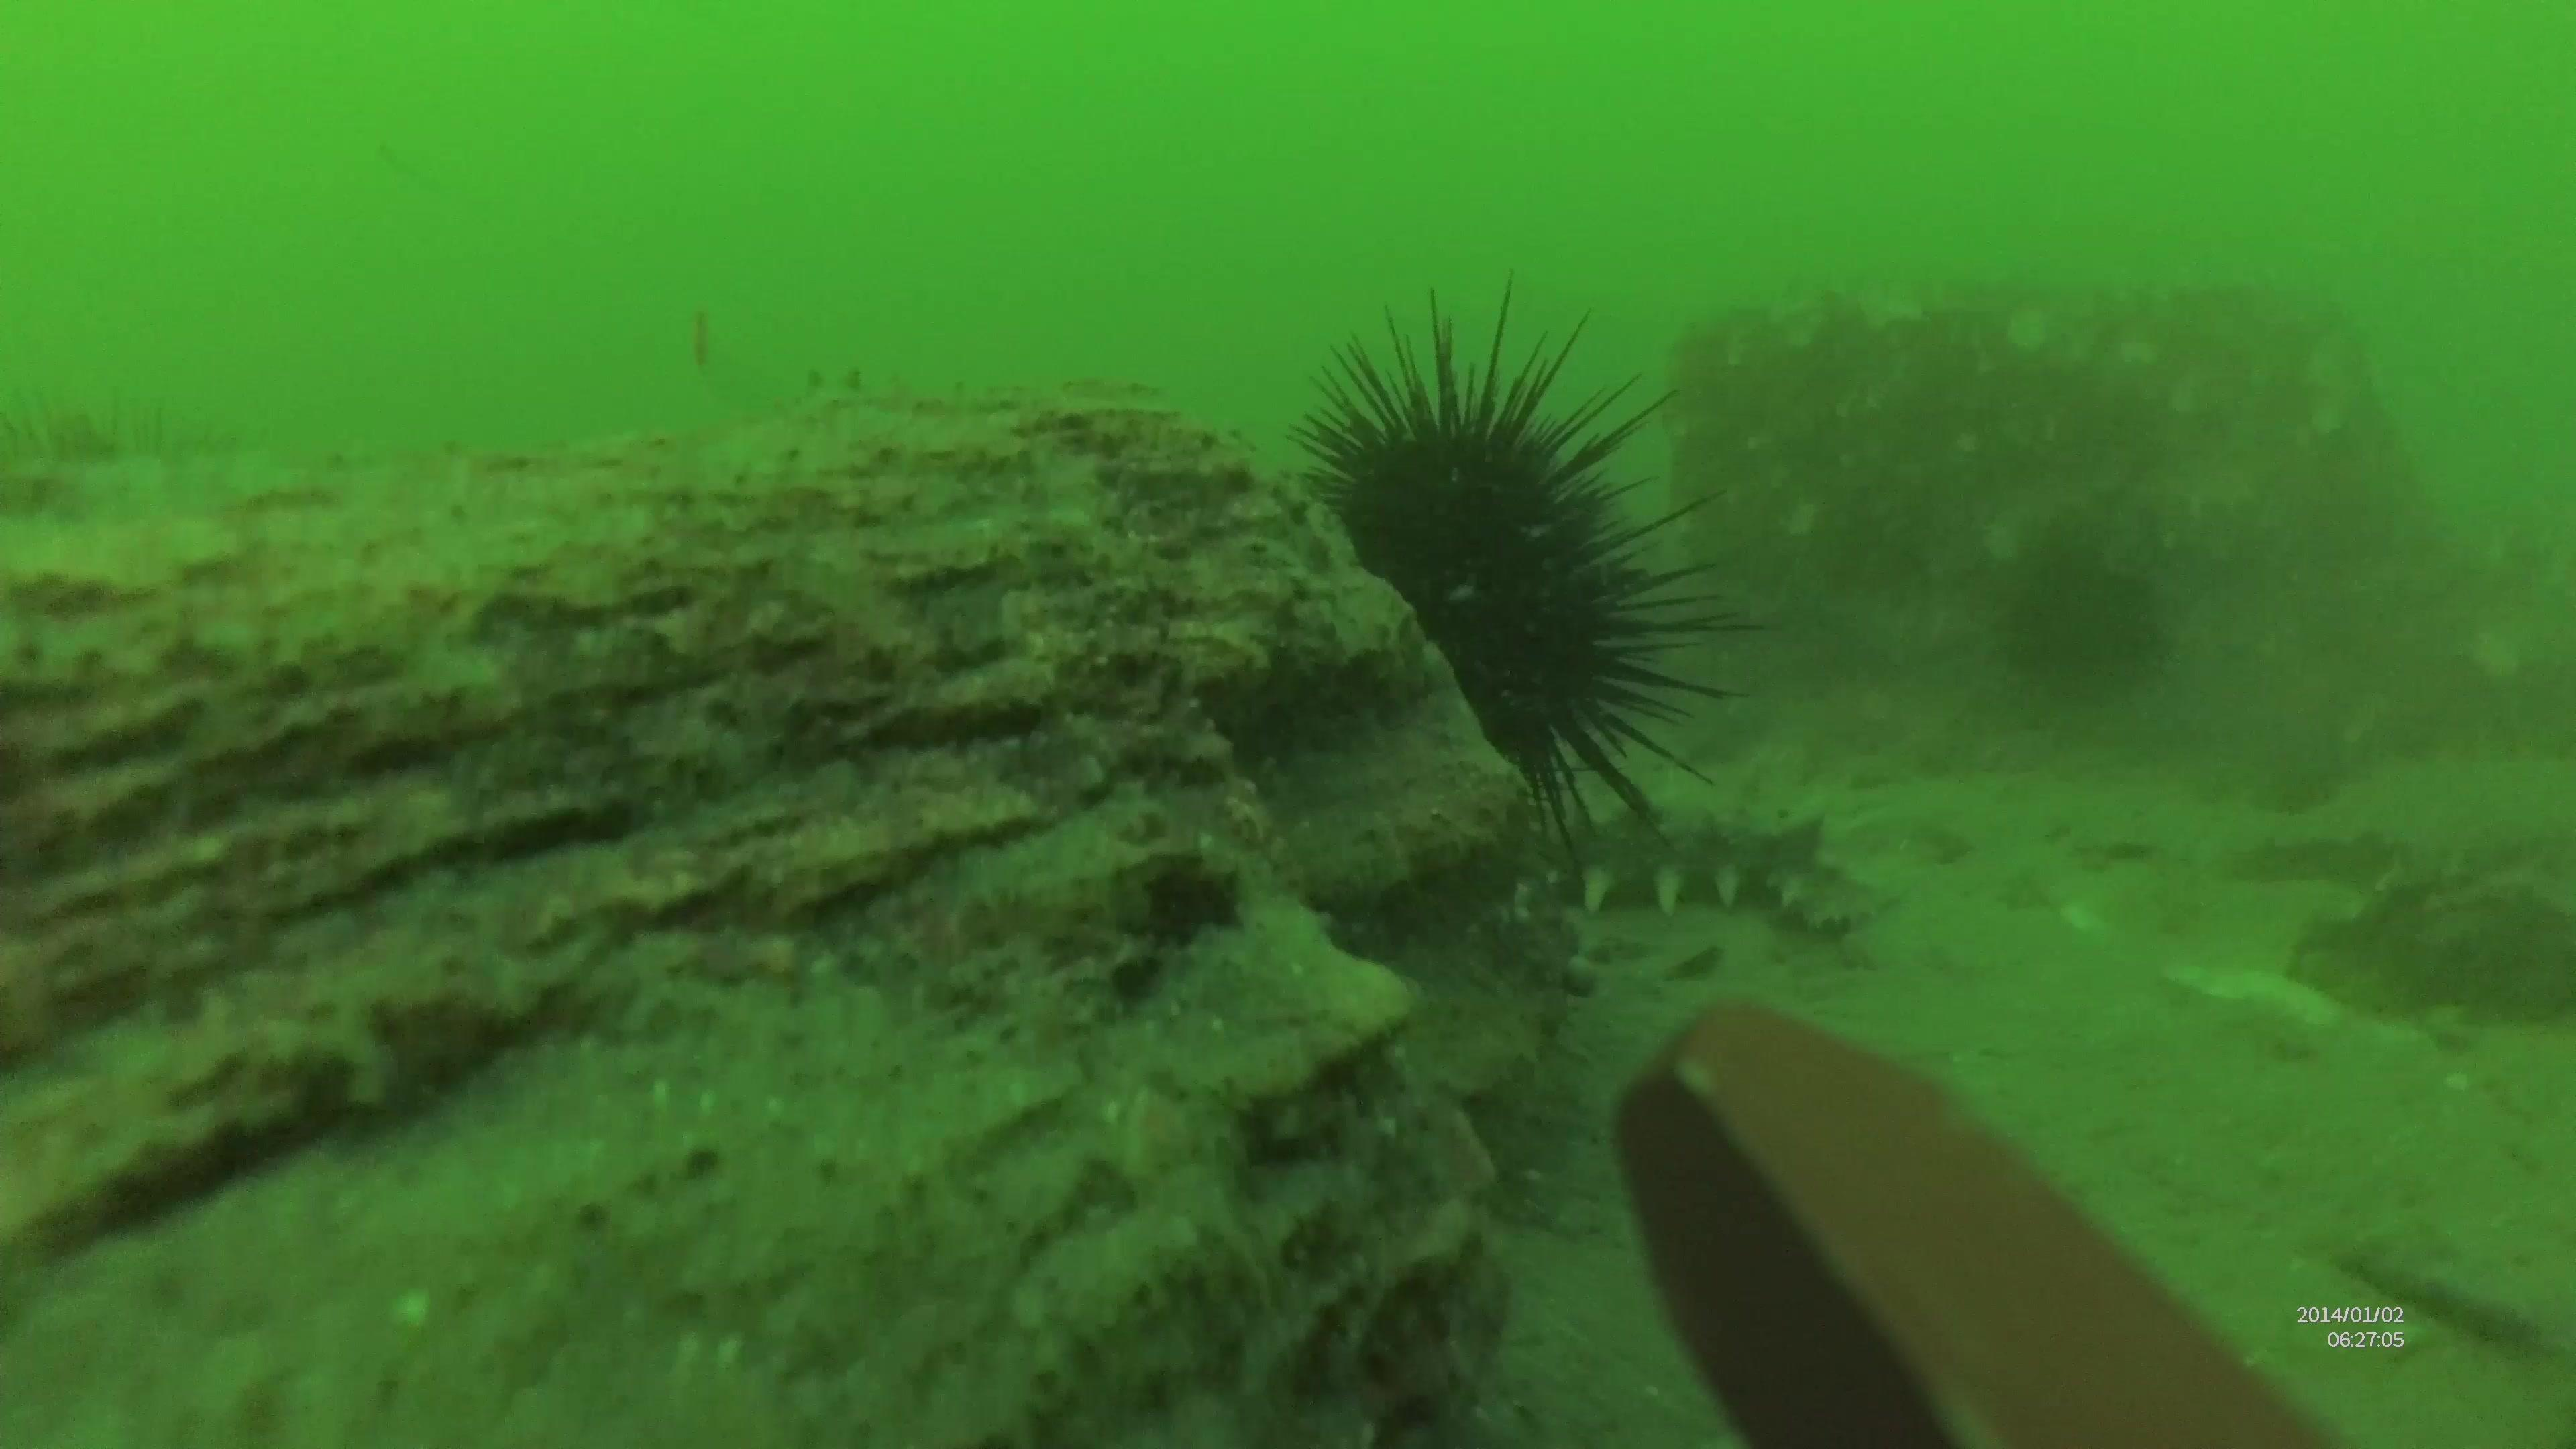echinus: (1242, 265, 1700, 803)
holothurian: (1456, 803, 1902, 948)
